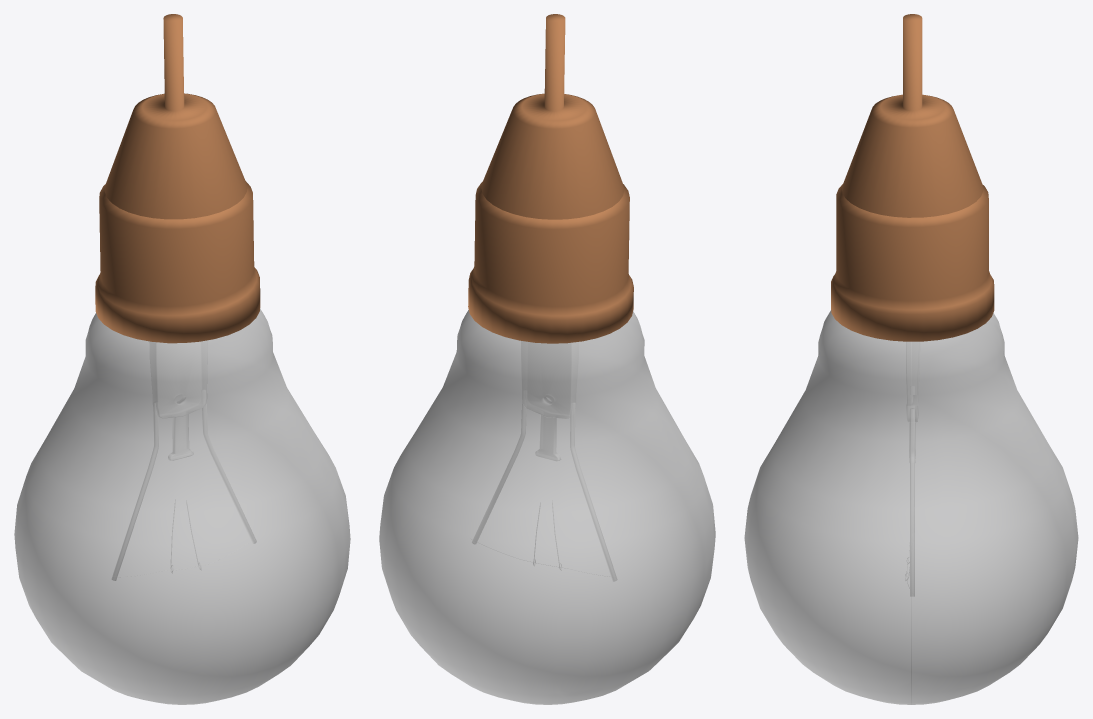
Rendered from Light.fbx.
3 views of the same model, side by side, from view 1: azimuth 30°, elevation 25°; view 2: azimuth 150°, elevation 25°; view 3: azimuth 270°, elevation 25° (orthographic).
Visible parts, largest first — view 1: bulb:polySurface18, bulb:polySurface12, bulb:polySurface19, bulb:polySurface13, bulb:polySurface14; view 2: bulb:polySurface18, bulb:polySurface12, bulb:polySurface19, bulb:polySurface13, bulb:polySurface14; view 3: bulb:polySurface18, bulb:polySurface12, bulb:polySurface19, bulb:polySurface14.
Part boxes in pixels (x1,y1,x2,y2): bulb:polySurface18: (14,308,350,704); bulb:polySurface12: (95,14,260,343); bulb:polySurface19: (149,340,207,460); bulb:polySurface13: (112,402,158,580); bulb:polySurface14: (202,403,256,543); bulb:polySurface18: (379,310,715,704); bulb:polySurface12: (468,14,633,343); bulb:polySurface19: (521,341,578,460); bulb:polySurface13: (570,403,617,581); bulb:polySurface14: (472,402,526,544); bulb:polySurface18: (744,310,1078,704); bulb:polySurface12: (831,14,994,341); bulb:polySurface19: (906,342,919,462); bulb:polySurface14: (910,409,914,596).
Size of the model in its own units: 1.32 by 2.91 by 1.32.
